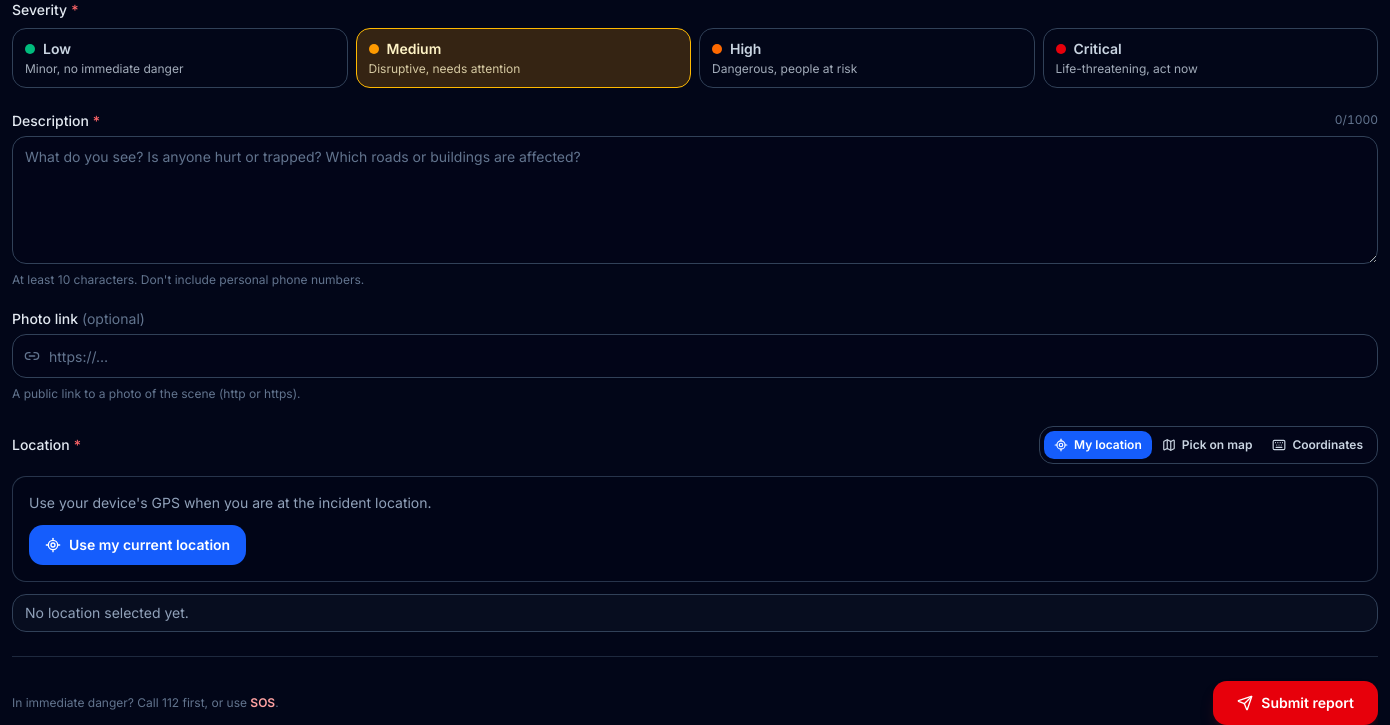
IncidentForm › shows inline errors and does not submit an invalid report
(page scrolled)
Click the button "Submit report" at (1296, 703), box [1213,681,1378,724]
(page scrolled)
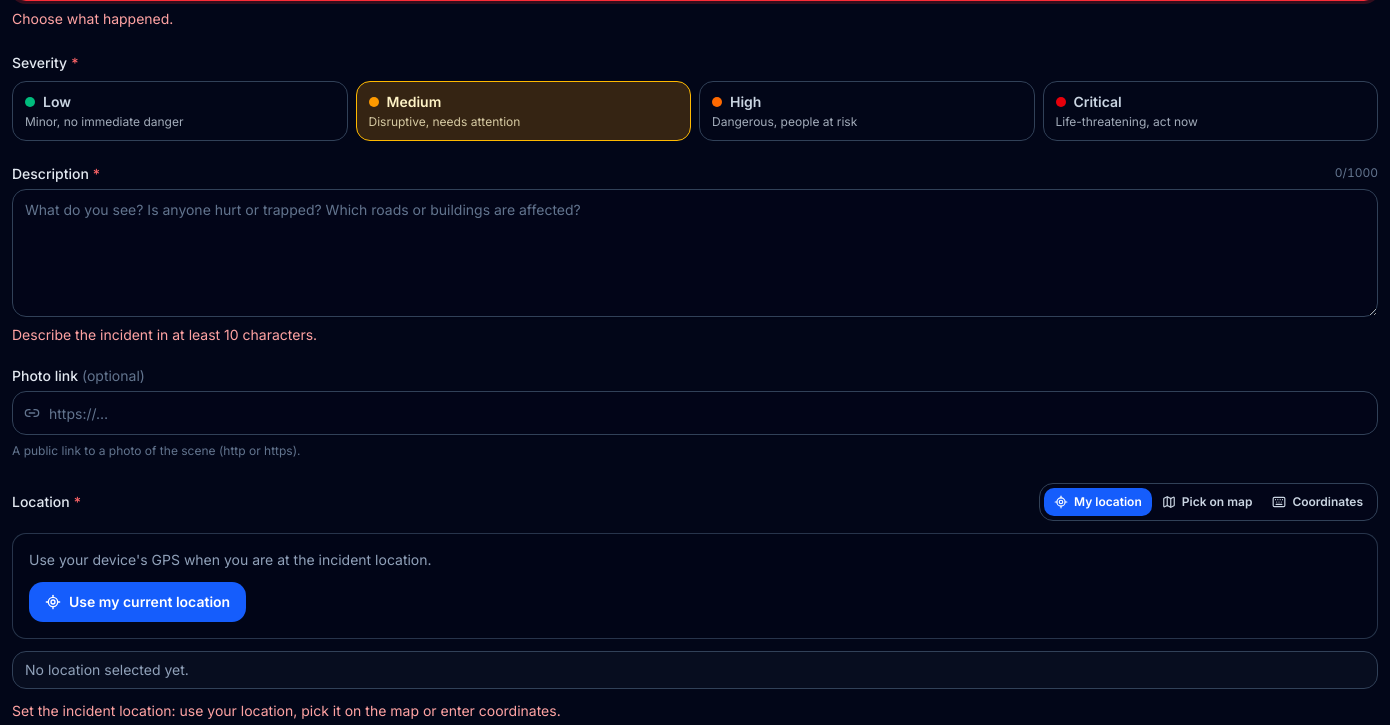
Expected: the text "Describe the incident in at least 10 characters." is shown, [12,326,317,343]
Now the text "Choose what happened." is shown, box [12,10,173,27]
Now the text "Set the incident location" is shown, box [12,702,561,719]
